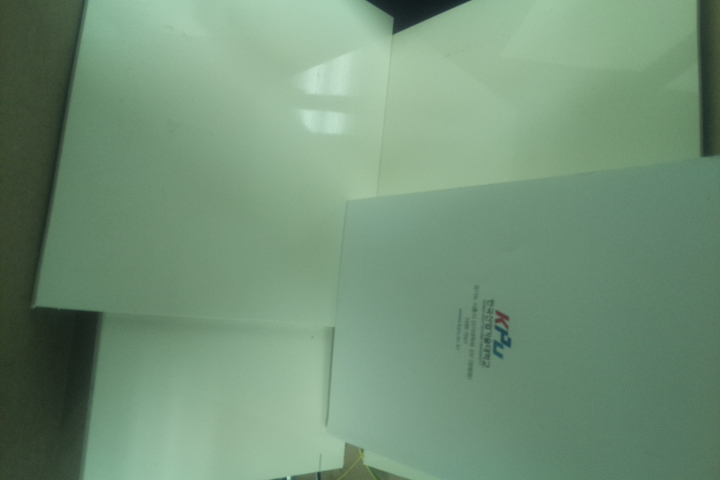book: (323, 154, 720, 479)
